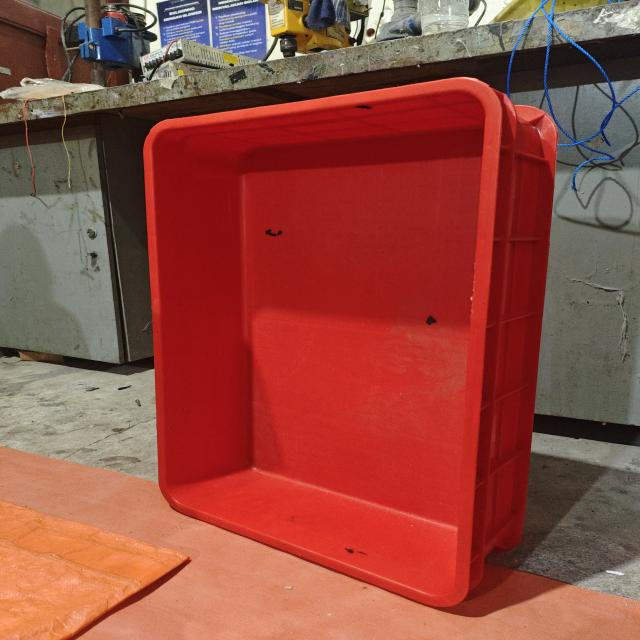red plastic box: (143, 76, 560, 608)
